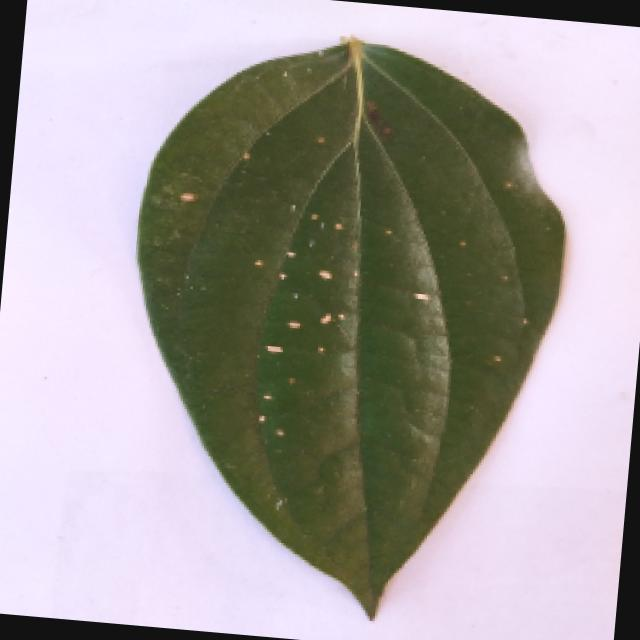pollu-disease: (111, 23, 584, 630)
